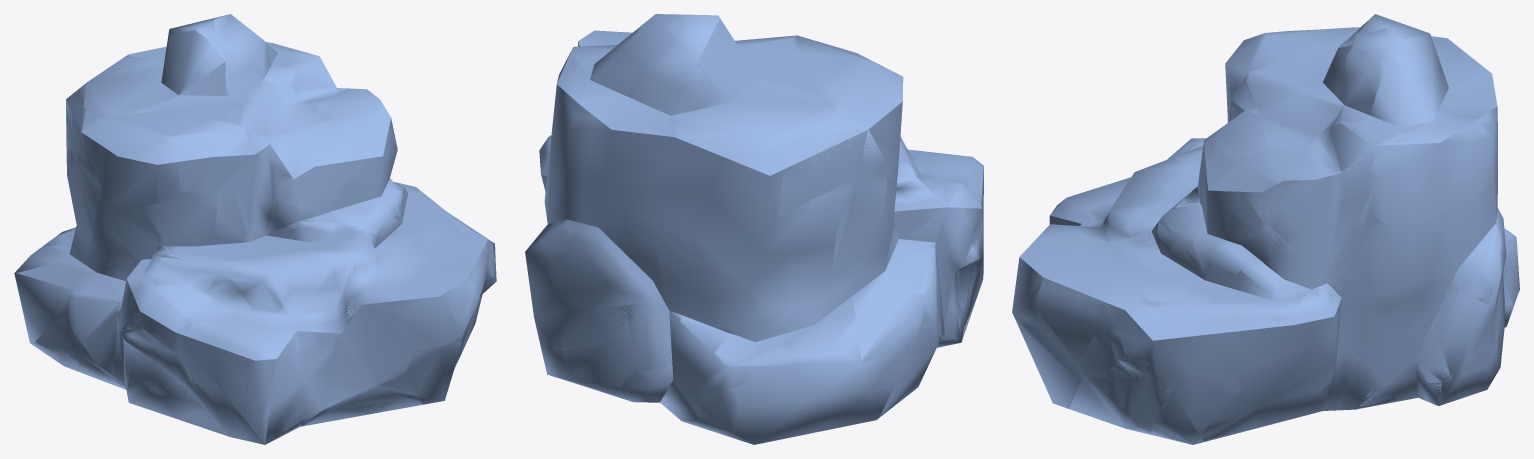
Rendered from rock_2_cell.fbx.
The picture shows the model from 3 angles, left to right: view 1: azimuth 30°, elevation 25°; view 2: azimuth 150°, elevation 25°; view 3: azimuth 270°, elevation 25°; orthographic projection. The views are drawn at different scales.
Visible parts, largest first — view 1: rock_2, rock_2_cell.084, rock_2_cell.079, rock_2_cell.004, rock_2_cell.096, rock_2_cell.020, rock_2_cell.073, rock_2_cell.092, rock_2_cell.045, rock_2_cell.007, rock_2_cell.099, rock_2_cell.065 (+39 smaller); view 2: rock_2, rock_2_cell.079, rock_2_cell.028, rock_2_cell.084, rock_2_cell.064, rock_2_cell.063, rock_2_cell.067, rock_2_cell.005, rock_2_cell.072, rock_2_cell.030, rock_2_cell.077, rock_2_cell.065 (+18 smaller); view 3: rock_2, rock_2_cell.045, rock_2_cell.061, rock_2_cell.007, rock_2_cell.043, rock_2_cell.016, rock_2_cell.015, rock_2_cell.026, rock_2_cell.034, rock_2_cell.076, rock_2_cell.096, rock_2_cell.008 (+31 smaller).
Part boxes in pixels (x1,y1,x2,y2): rock_2: [14, 14, 496, 444]; rock_2_cell.084: [81, 112, 179, 205]; rock_2_cell.079: [75, 31, 216, 116]; rock_2_cell.004: [323, 303, 412, 409]; rock_2_cell.096: [160, 115, 247, 193]; rock_2_cell.020: [246, 331, 335, 444]; rock_2_cell.073: [388, 278, 475, 350]; rock_2_cell.092: [142, 184, 224, 258]; rock_2_cell.045: [239, 72, 328, 136]; rock_2_cell.007: [335, 122, 401, 218]; rock_2_cell.099: [248, 120, 344, 176]; rock_2_cell.065: [105, 196, 170, 304]; rock_2: [525, 14, 983, 444]; rock_2_cell.079: [665, 18, 840, 154]; rock_2_cell.028: [775, 120, 888, 283]; rock_2_cell.084: [814, 59, 903, 162]; rock_2_cell.064: [851, 281, 924, 362]; rock_2_cell.063: [780, 281, 861, 392]; rock_2_cell.067: [568, 94, 685, 139]; rock_2_cell.005: [614, 365, 700, 423]; rock_2_cell.072: [717, 333, 803, 380]; rock_2_cell.030: [867, 191, 928, 292]; rock_2_cell.077: [745, 43, 814, 87]; rock_2_cell.065: [887, 156, 963, 251]; rock_2: [1018, 29, 1519, 444]; rock_2_cell.045: [1246, 71, 1343, 148]; rock_2_cell.061: [1033, 278, 1103, 365]; rock_2_cell.007: [1192, 152, 1261, 272]; rock_2_cell.043: [1175, 373, 1259, 441]; rock_2_cell.016: [1212, 187, 1296, 277]; rock_2_cell.015: [1365, 63, 1432, 134]; rock_2_cell.026: [1301, 123, 1398, 173]; rock_2_cell.034: [1017, 324, 1083, 408]; rock_2_cell.076: [1331, 47, 1387, 129]; rock_2_cell.096: [1225, 36, 1324, 101]; rock_2_cell.008: [1147, 181, 1206, 279].
Size of the model in its own units: 213 by 171 by 235.
